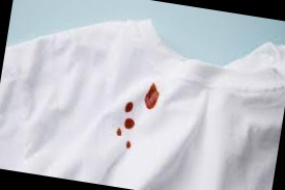blood: (143, 82, 162, 110), (124, 118, 136, 130), (124, 101, 134, 113), (125, 140, 132, 148), (116, 128, 122, 135)
